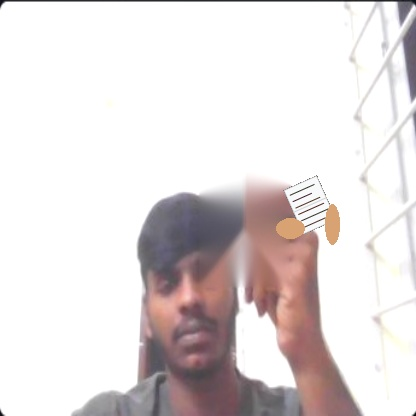cheat_chit: (283, 175, 336, 234)
